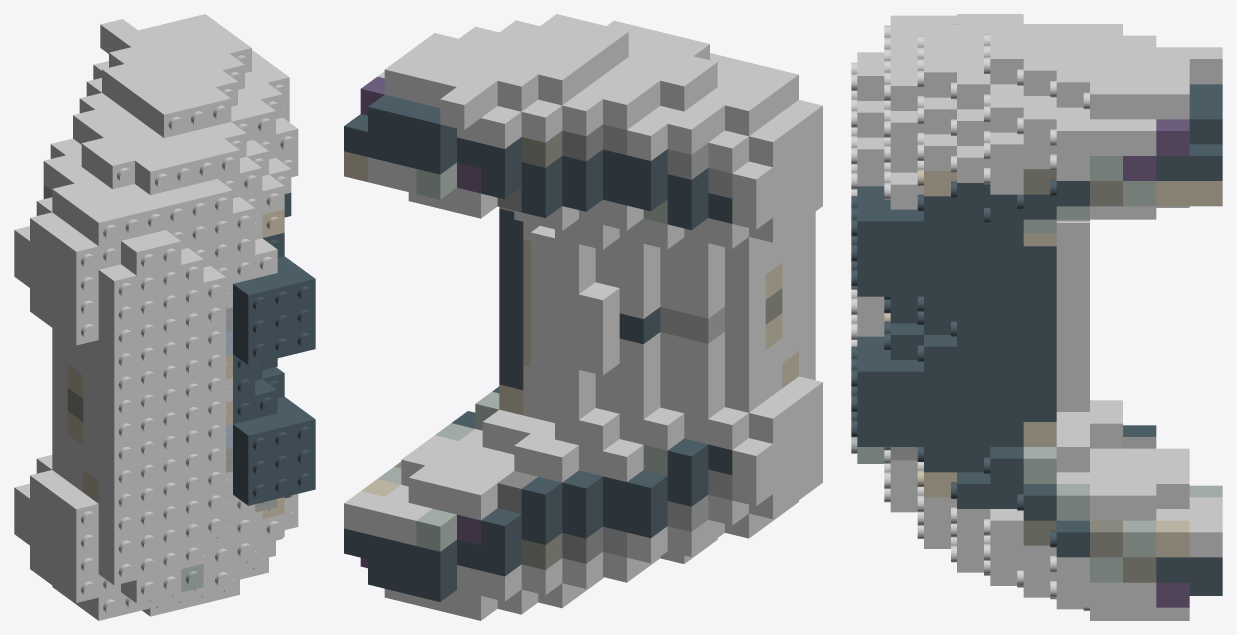
Rendered from full.glb.
The picture shows the model from 3 angles, left to right: view 1: azimuth 30°, elevation 25°; view 2: azimuth 150°, elevation 25°; view 3: azimuth 270°, elevation 25°; orthographic projection. The views are drawn at different scales.
Visible parts, largest first — view 1: world; view 2: world; view 3: world.
Boxes of the visible parts, box(x1,y1,x2,y2) form: world: box(14, 14, 315, 620); world: box(344, 14, 822, 620); world: box(851, 14, 1222, 620).
Bounding box in the file's own units: 104 × 168 × 107.
